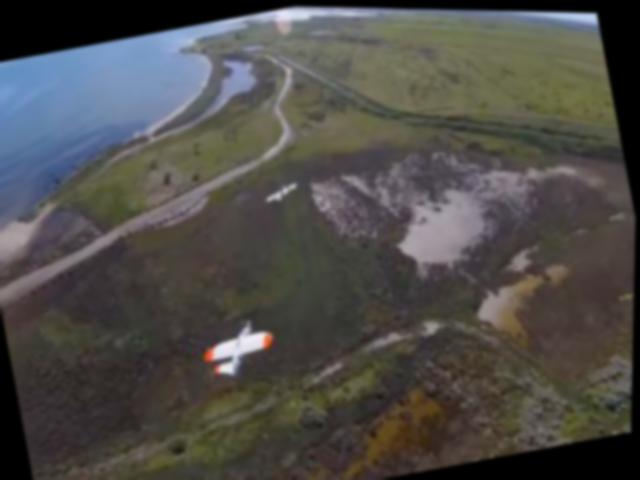uav: (197, 311, 283, 384)
